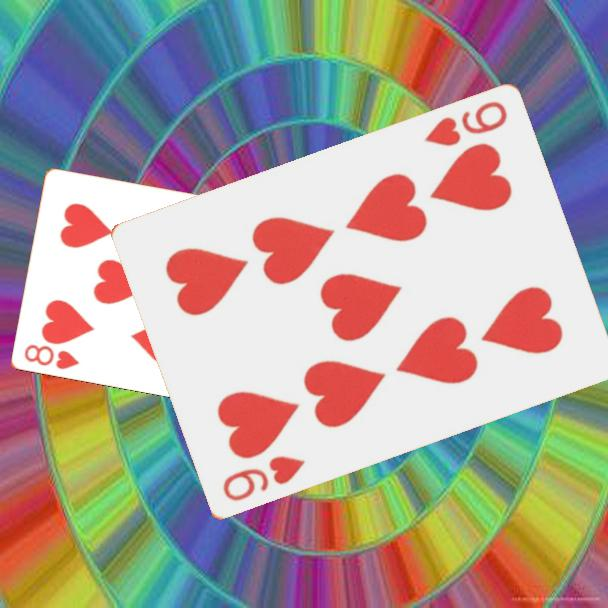h08: (21, 340, 82, 372)
h09: (219, 452, 308, 505), (420, 98, 510, 150)
